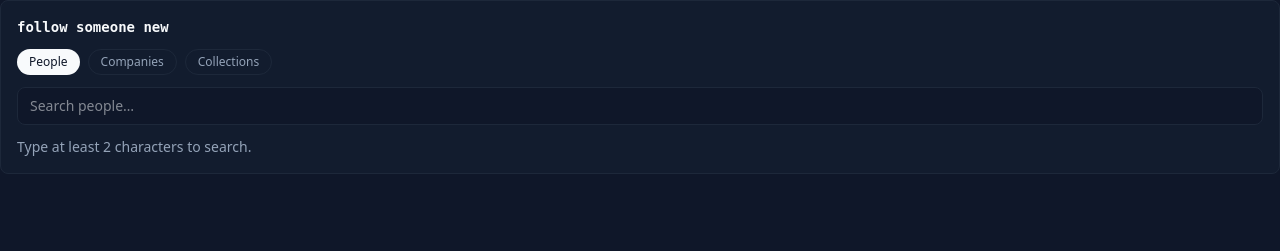
Test: FollowEntitySearch › says how many it is not showing rather than truncating in silence
The width and height of the screenshot is (1280, 251).
Type "nolan" into the search field at (640, 106), box [17, 87, 1263, 125]
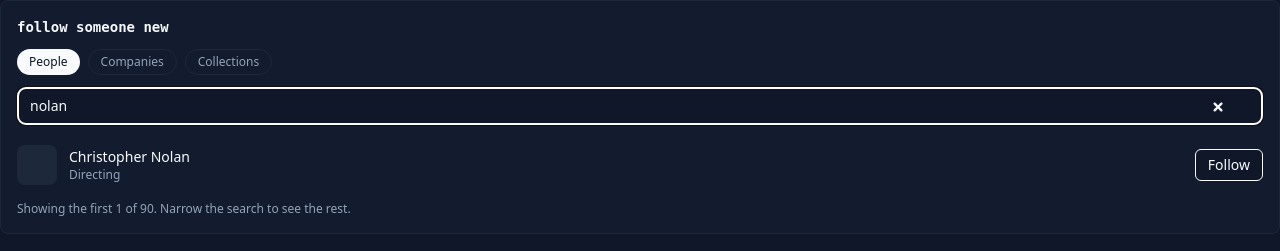
Check: the text "Showing the first 1 of 90" is shown, box [17, 200, 351, 217]
